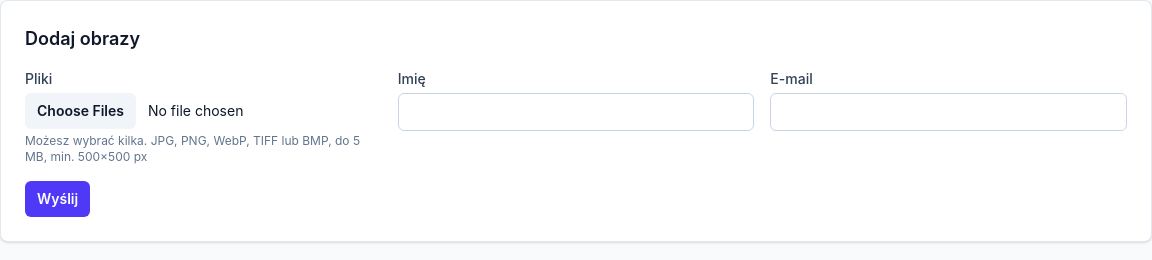
UploadImageForm › shows client-side errors for empty fields without sending the form
This screenshot has width=1152, height=260.
Click the button "Wyślij". click: click(58, 199)
box: [25,181,90,217]
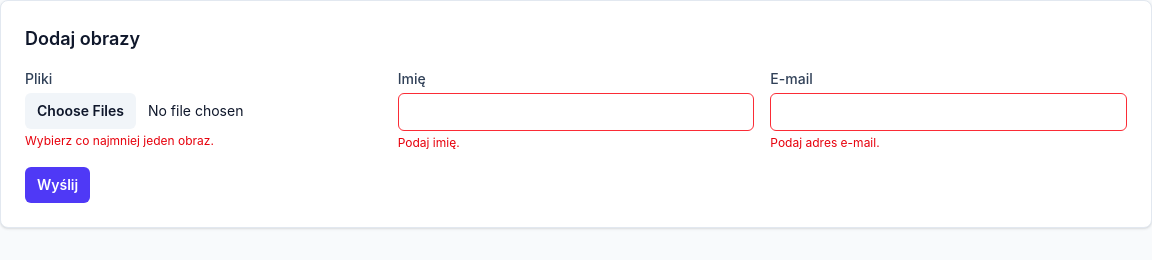
Expected: the text "Wybierz co najmniej jeden obraz." is shown, [25,133,214,148]
Expected: the text "Podaj imię." is shown, [398,135,460,150]
Expected: the text "Podaj adres e-mail." is shown, [770,135,880,150]
